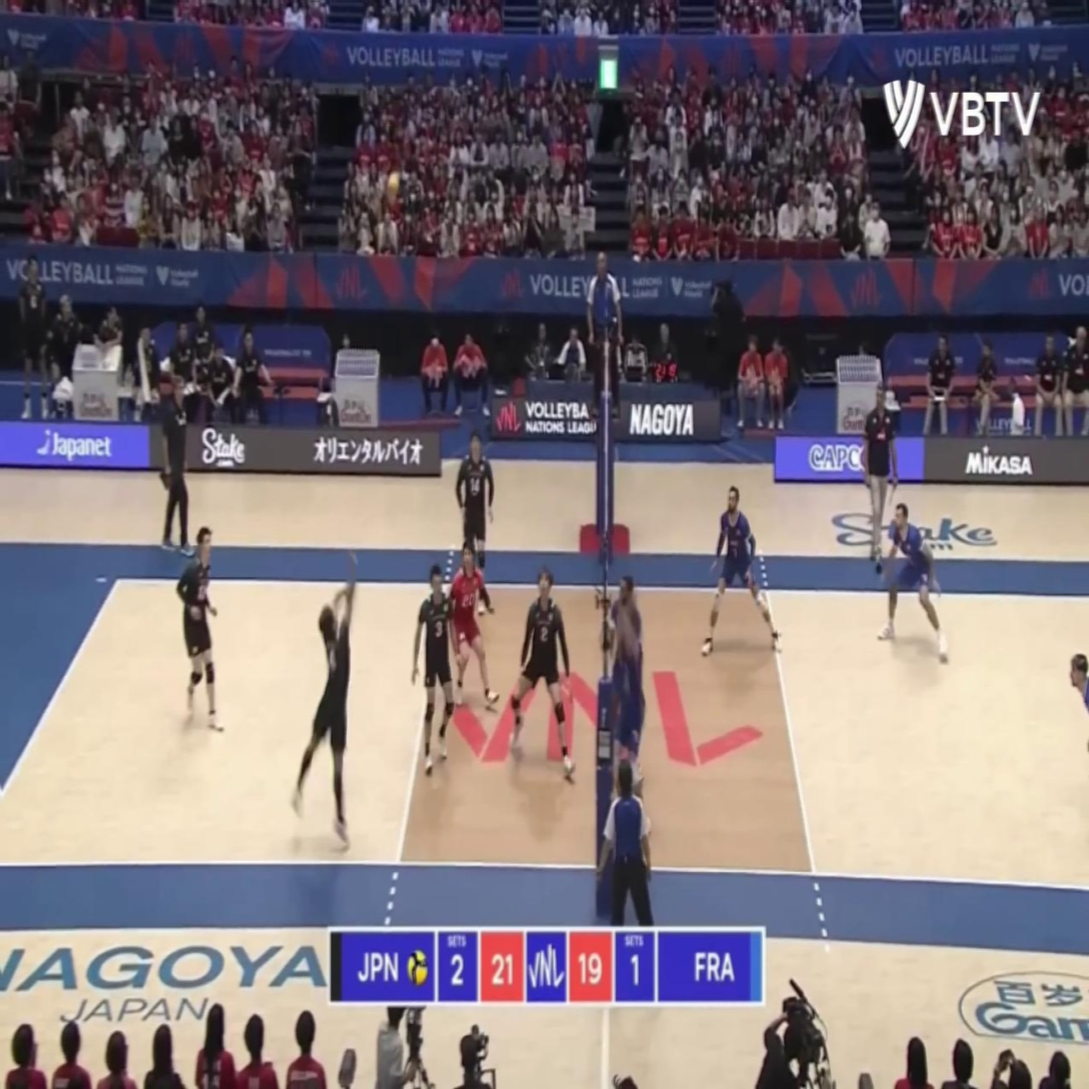ball: (383, 170, 399, 206)
